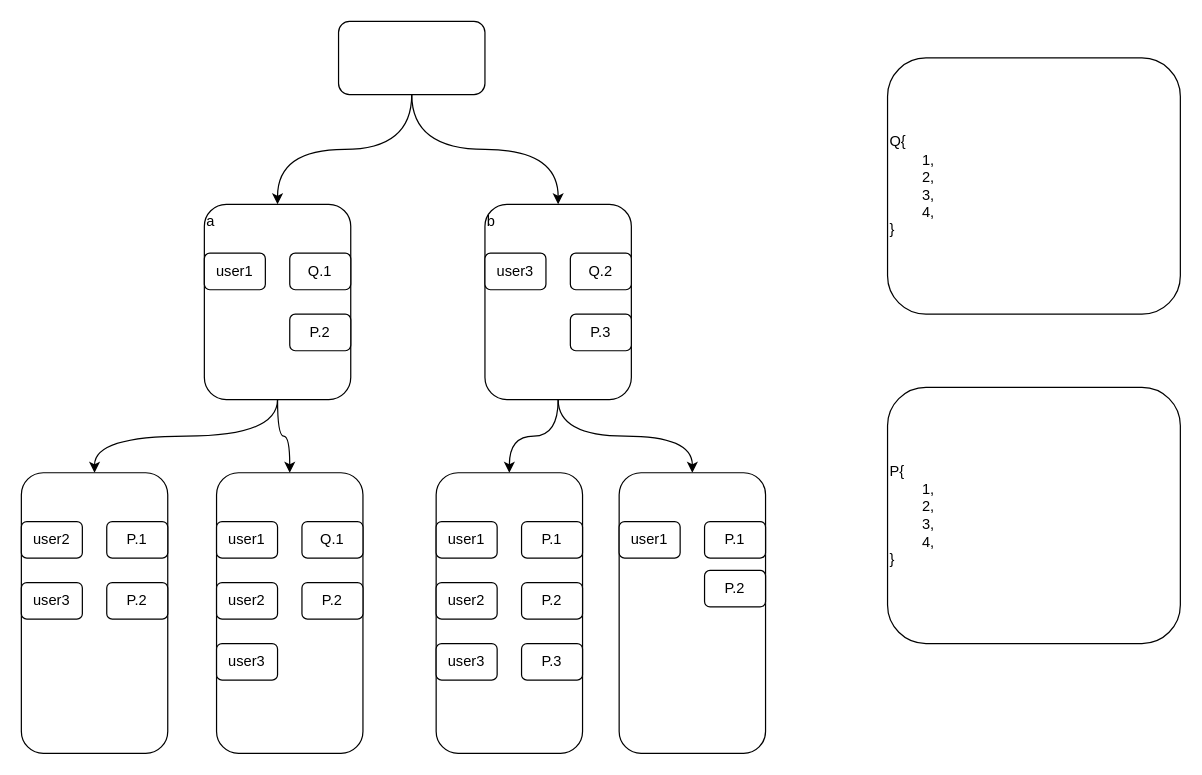
The diagram is 1202 pixels wide and 775 high, and some of its shapes have lost their labels. Here are the shapes that lost their labels. From the top down, the box of each, then its label:
(337, 20, 485, 95): root
(20, 472, 168, 753): aa
(215, 472, 363, 753): ab
(435, 472, 583, 753): ba
(618, 472, 766, 753): bb
